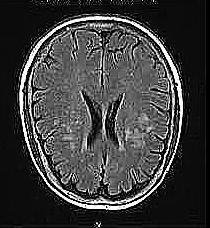Normal_Brain: (14, 1, 210, 225)
